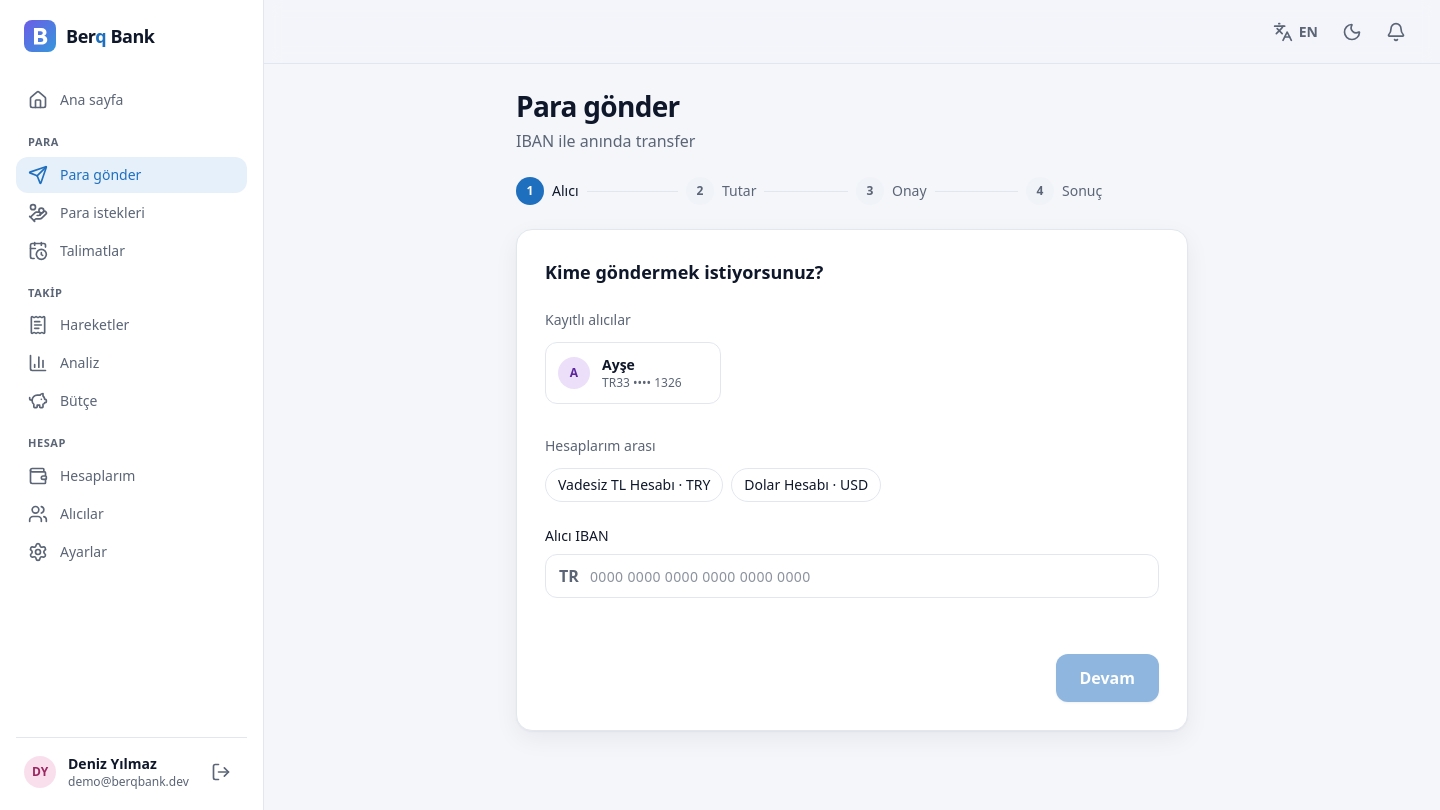
Scenario: transfer wizard › surfaces business errors from the server in the user language
Type "330006100519786457841326" into the field labelled "Alıcı IBAN" at (852, 576), box [545,554,1159,598]
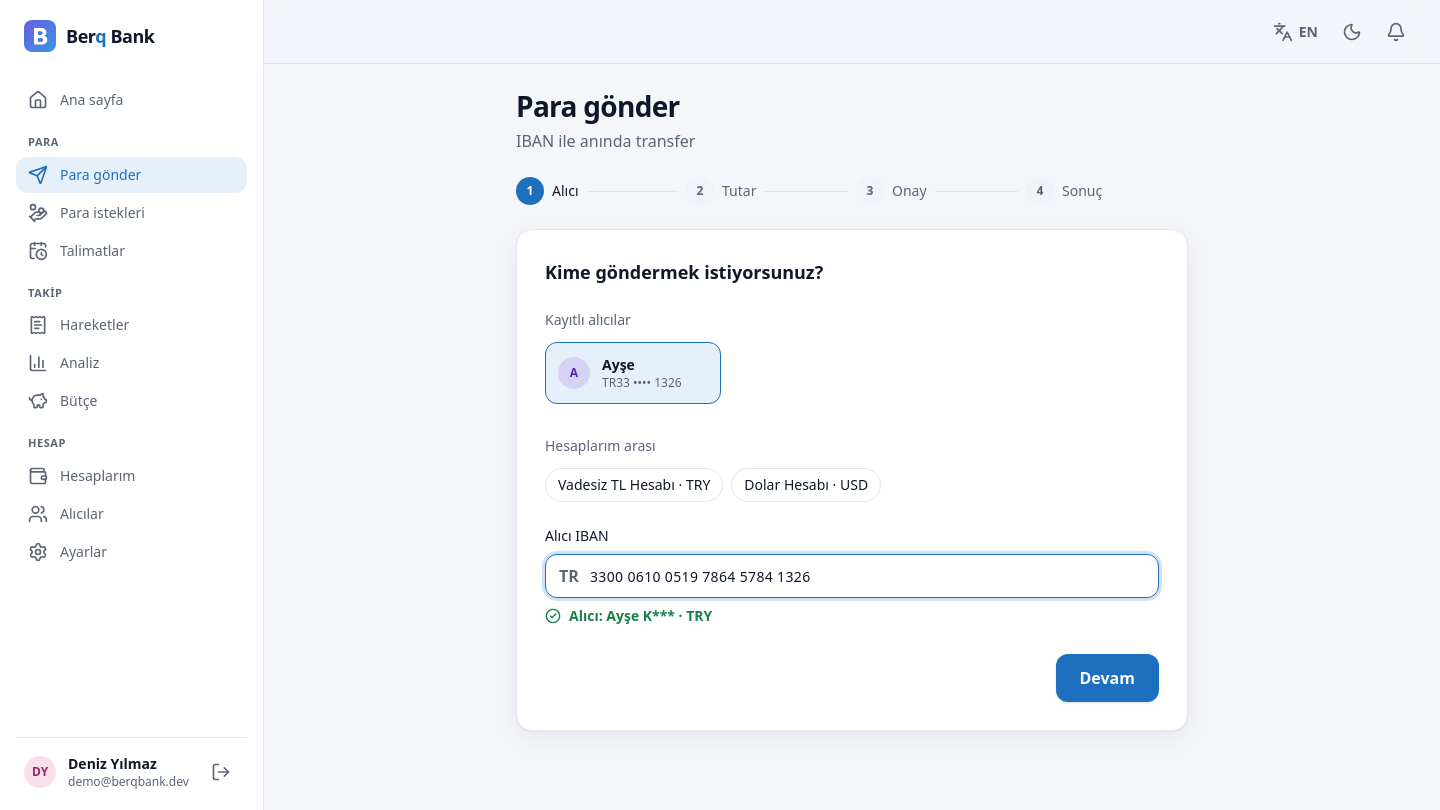
Expected: the text "Alıcı: Ayşe K*** · TRY" is shown, [545,606,712,625]
Click the button "Devam" at (1107, 678), box [1056,654,1159,702]
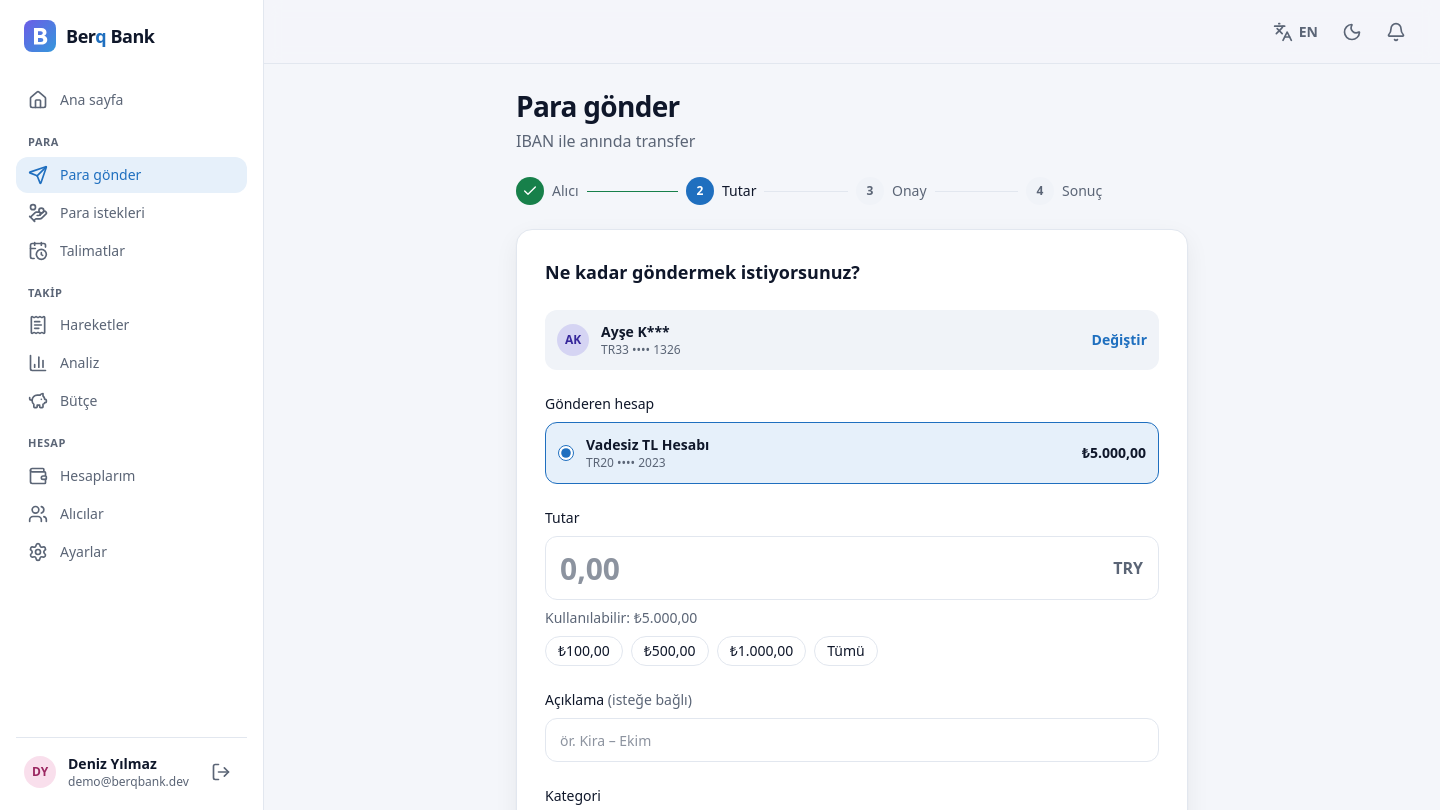
Expected: the radio button labelled "Vadesiz TL Hesabı TR20 •••• 2023 ₺5.000,00" is checked, [558,445,574,461]
Expected: the button "Dolar Hesabı" is gone
Type "100" into the field labelled "Tutar" at (852, 568), box [545,536,1159,600]
Type "Kira" into the field labelled "Açıklama (isteğe bağlı)" at (852, 740), box [545,718,1159,762]
(page scrolled)
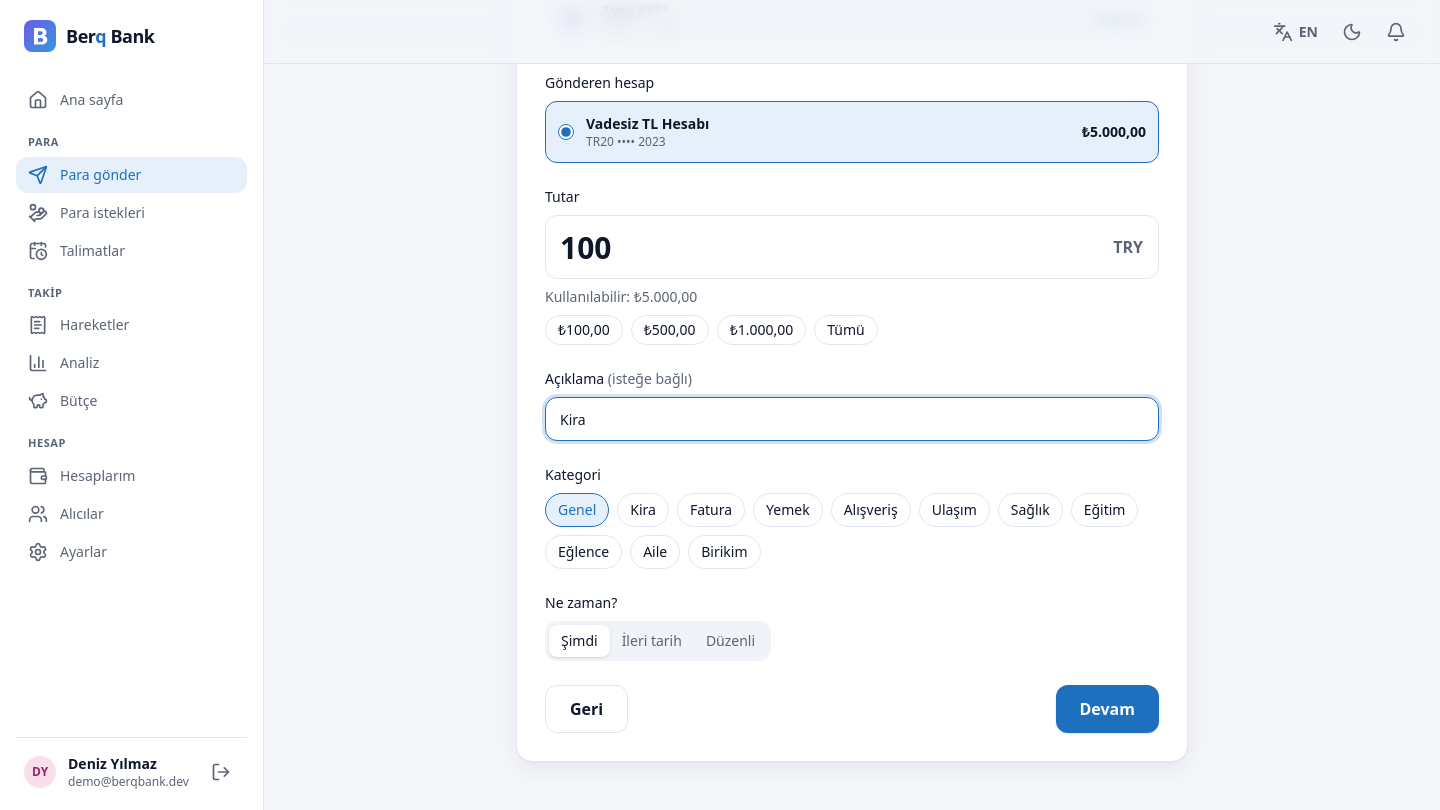
Click the radio button labelled "Kira" at (643, 510), box [617,493,669,527]
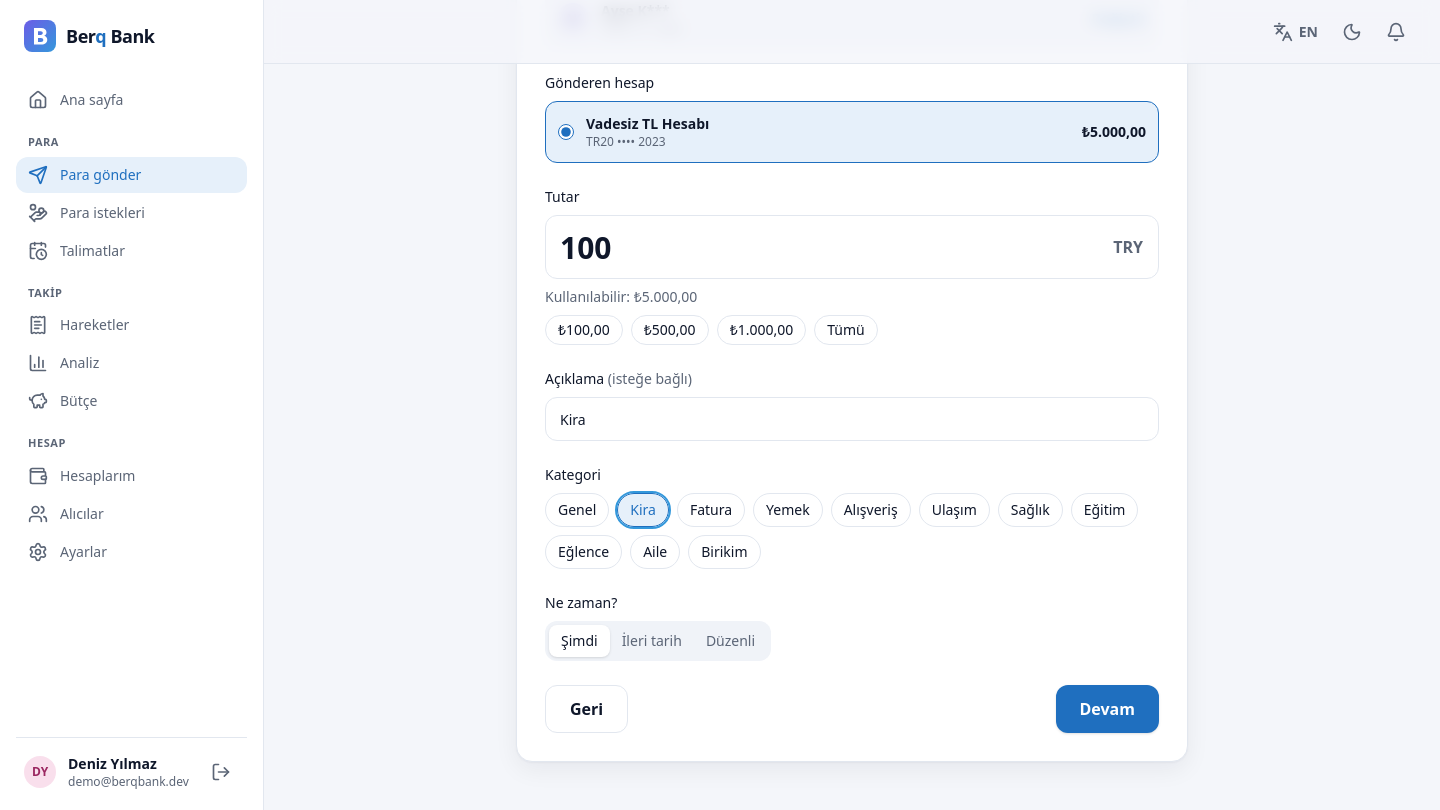
Click the button "Devam" at (1107, 709), box [1056,685,1159,733]
(page scrolled)
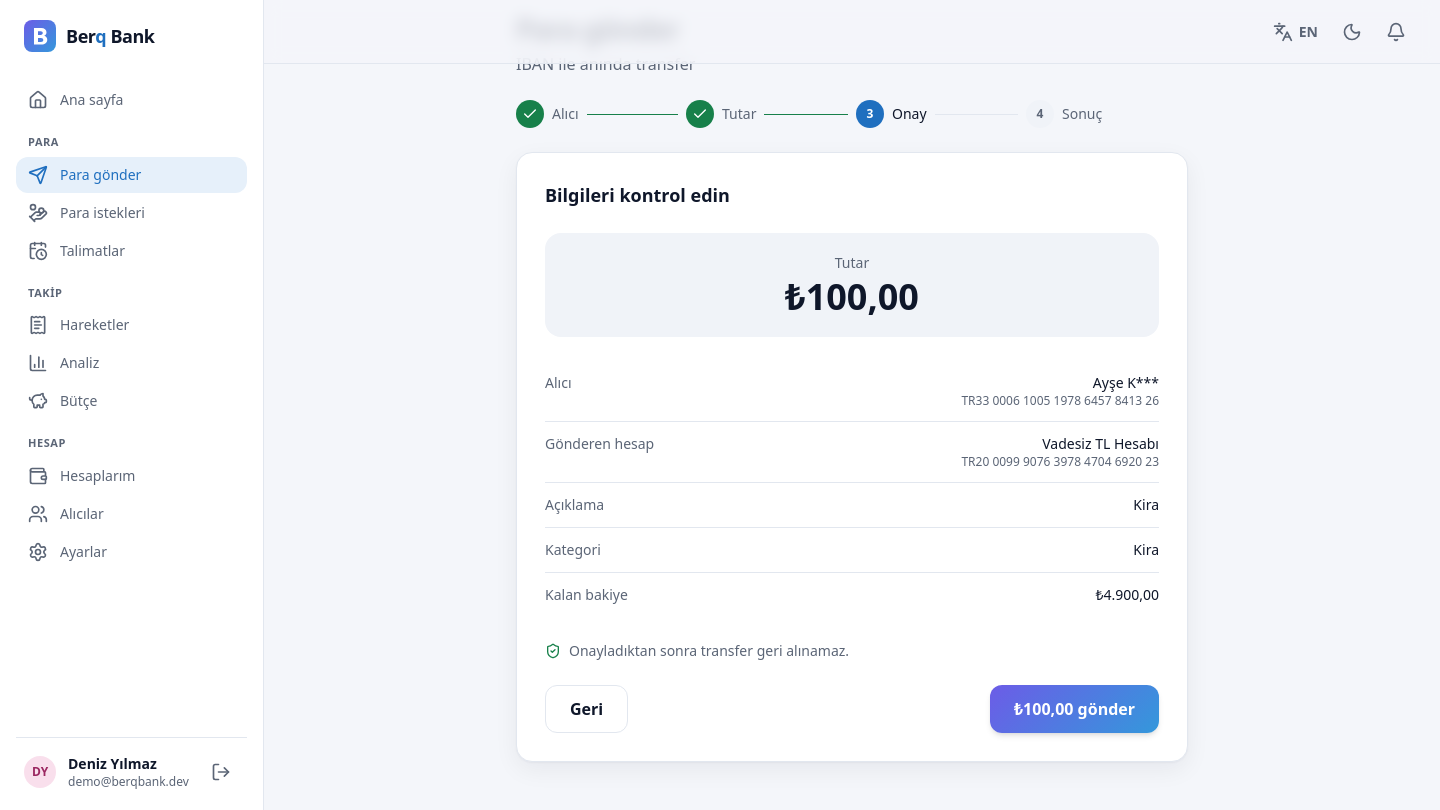
Click the button "₺100,00 gönder" at (1074, 709), box [990,685,1159,733]
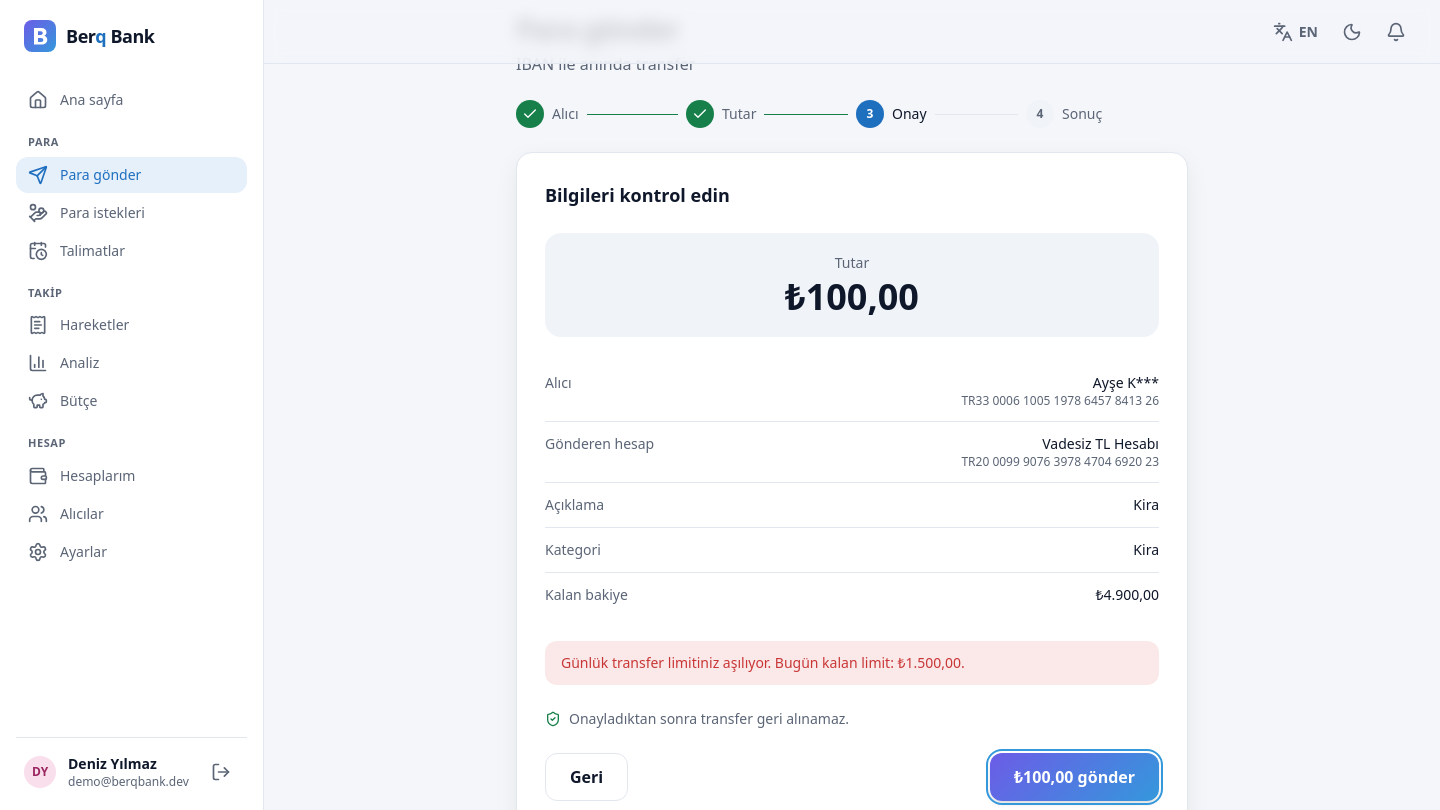
Expected: the message shows "Bugün kalan limit: ₺1.500,00", [561,653,965,672]
